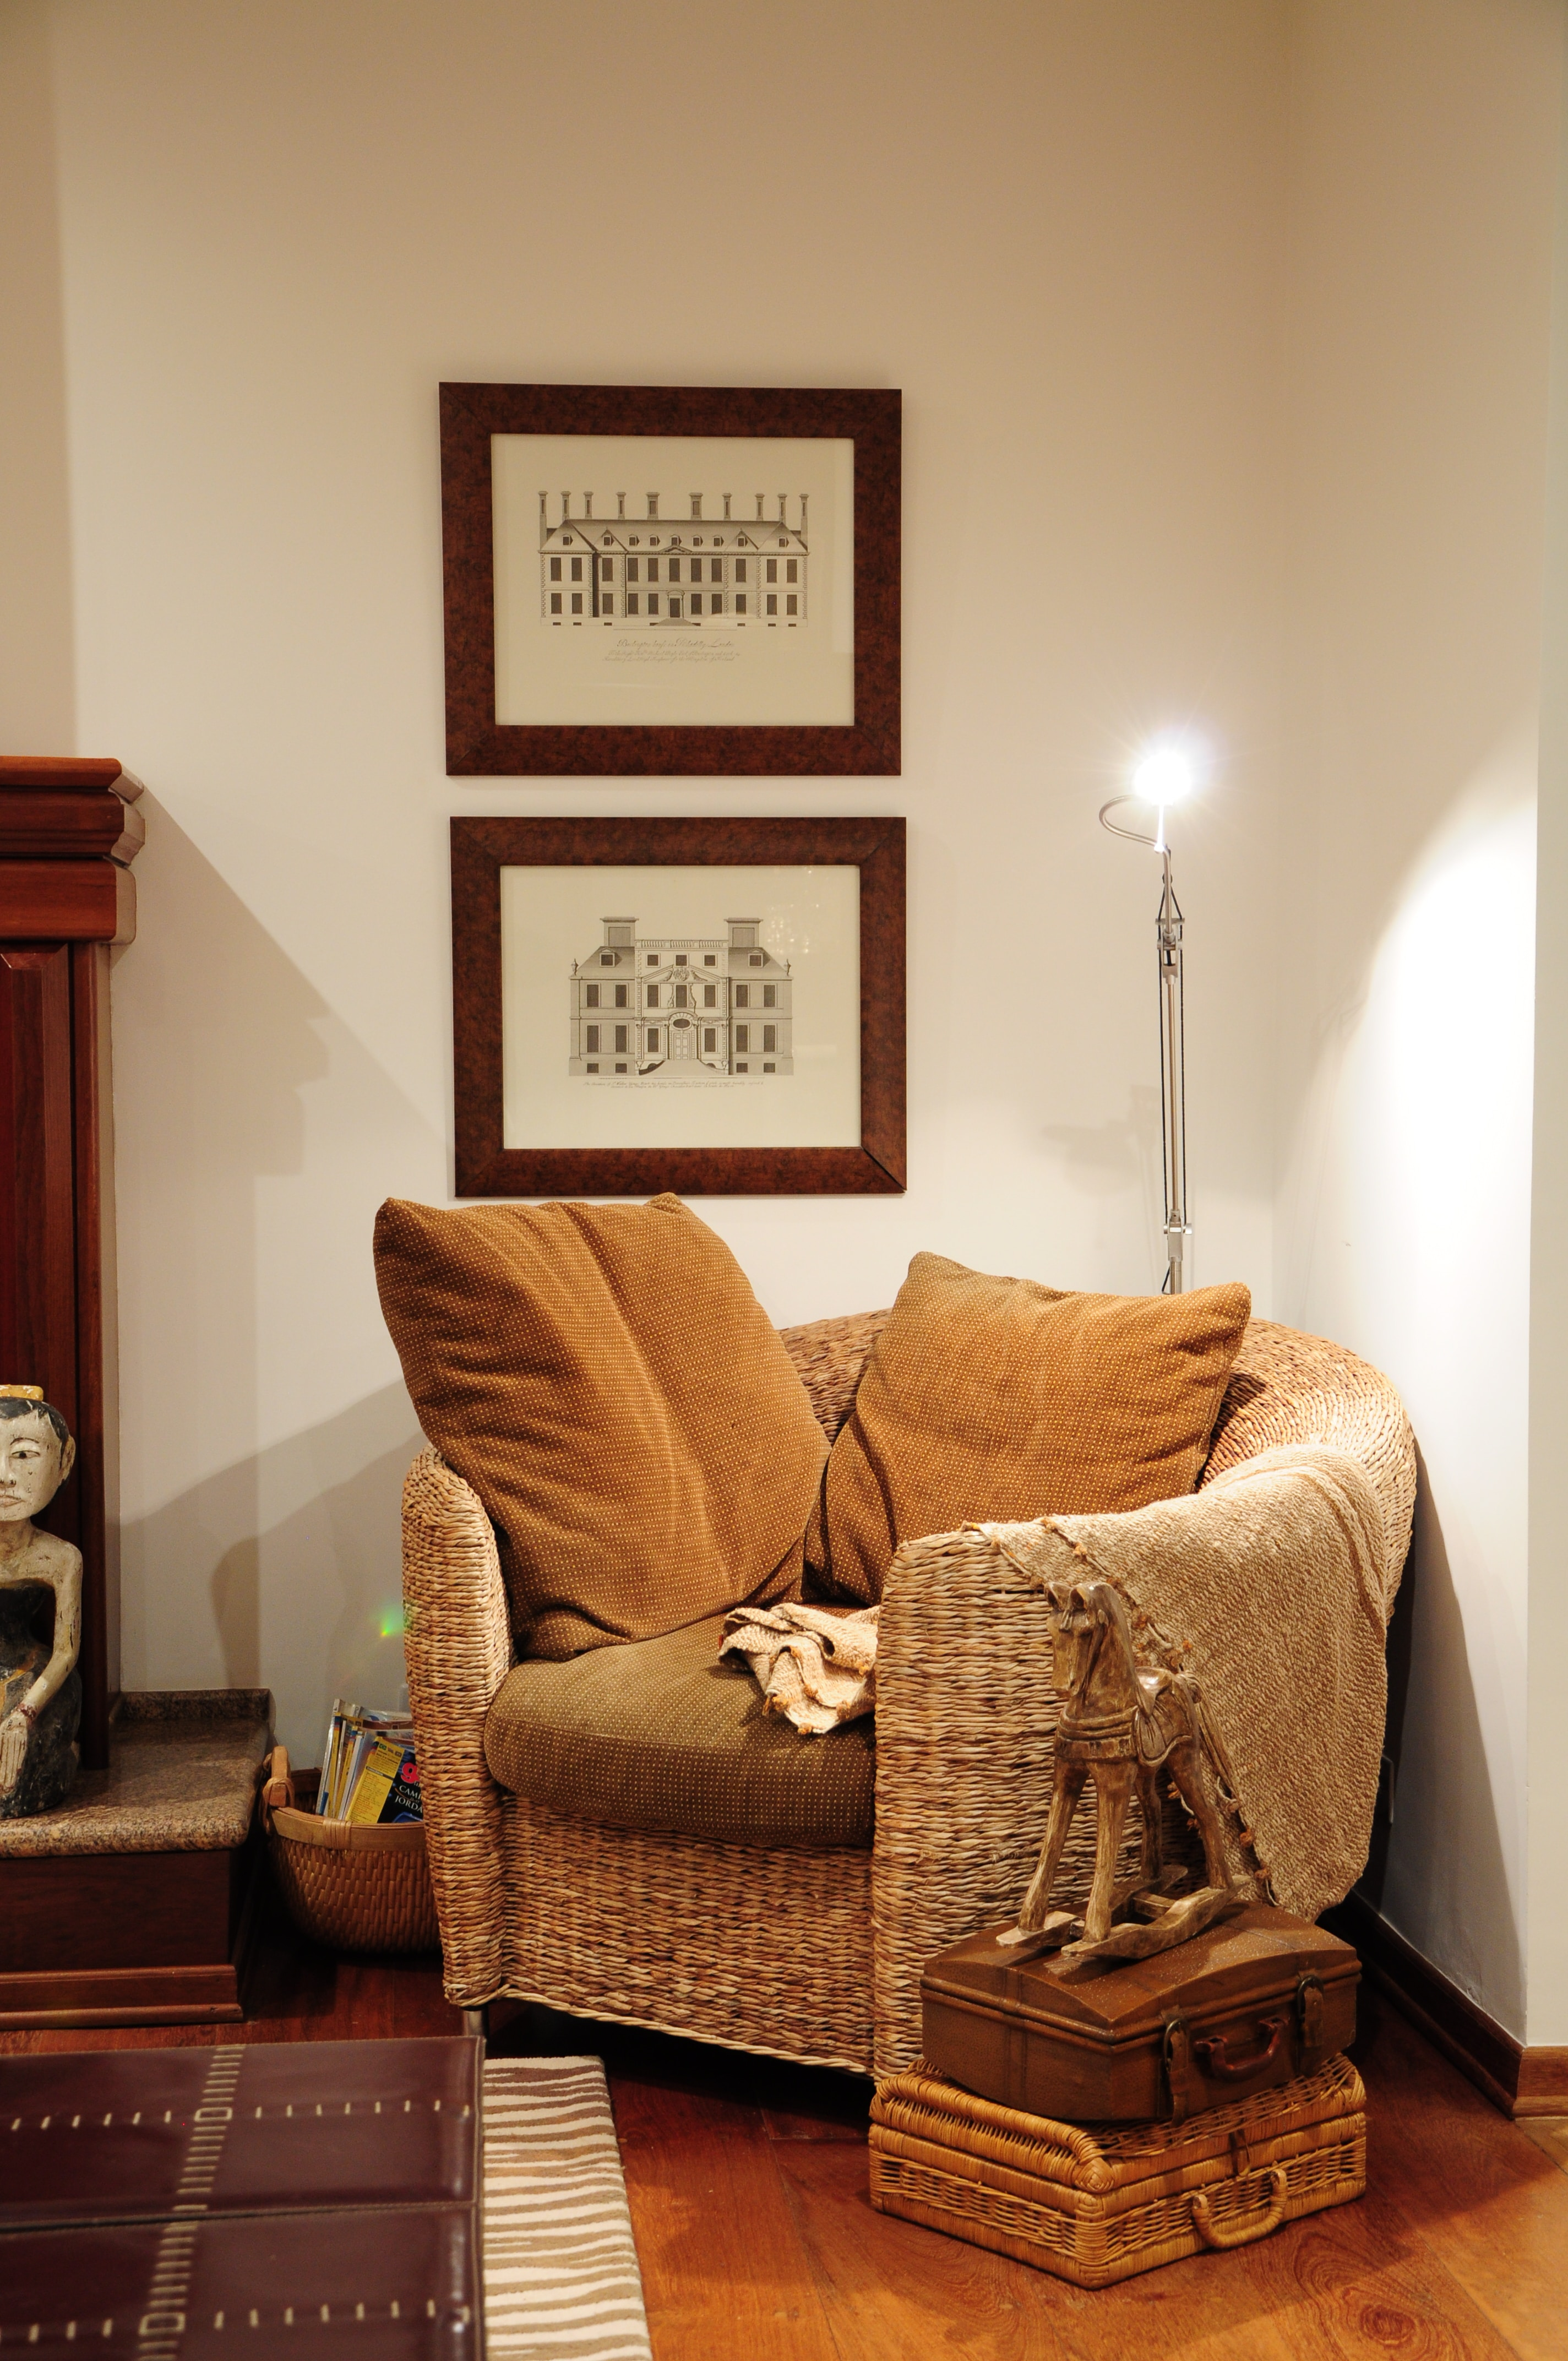Chair: (388, 1272, 1403, 2137)
Painting: (425, 371, 920, 774), (422, 807, 920, 1199)
